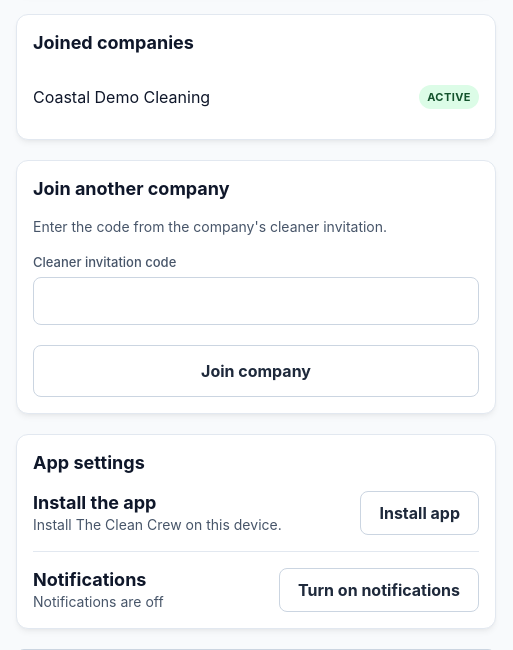
it: CLE-26 cleaner profile › reports an existing membership instead of claiming the company was newly joined
This screenshot has width=513, height=650.
(page scrolled)
Type "COASTAL-AGAIN" into the field labelled "Cleaner invitation code".
click(256, 301); type("COASTAL-AGAIN")  # box [33,277,479,325]
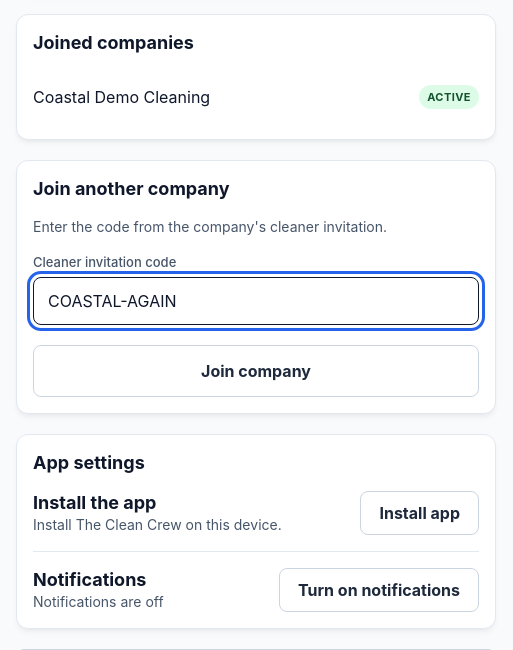
Click the button "Join company".
click(256, 371)  # box [33,345,479,397]
(page scrolled)
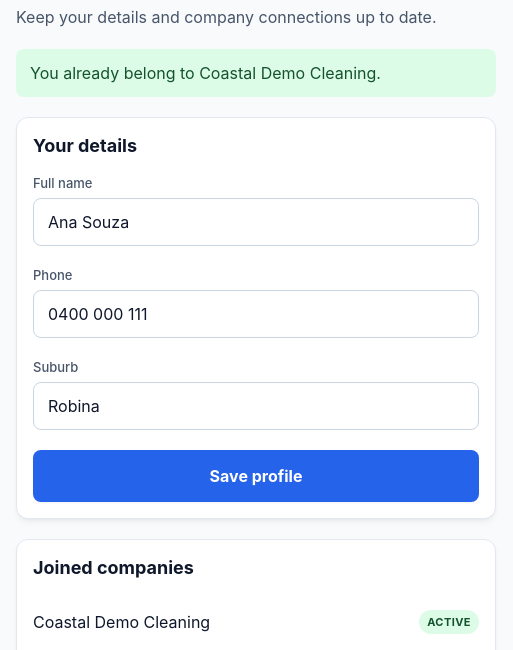
expect the text "Coastal Demo Cleaning" is shown once: met, box [33,610,210,634]
expect the message reads "You already belong to Coastal Demo Cleaning.": met, box [30,63,381,83]
